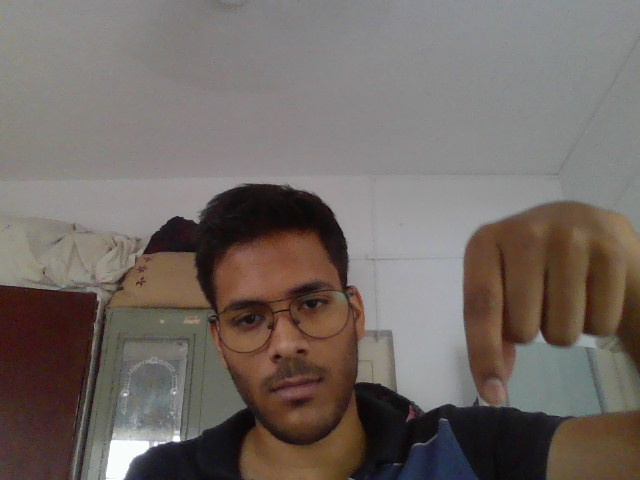yes: (452, 183, 640, 415)
